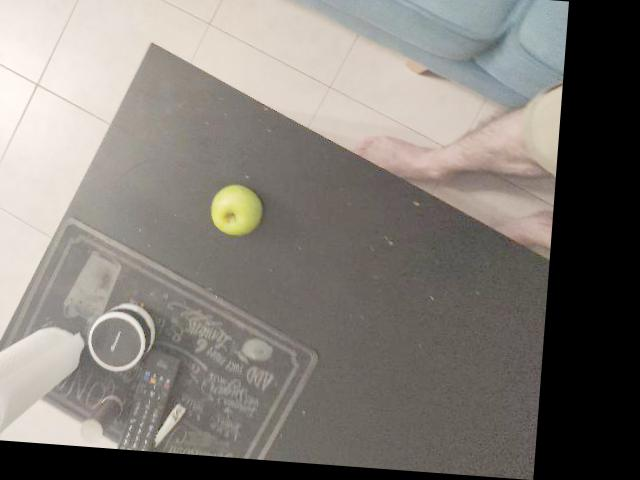apple: (125, 93, 183, 159)
